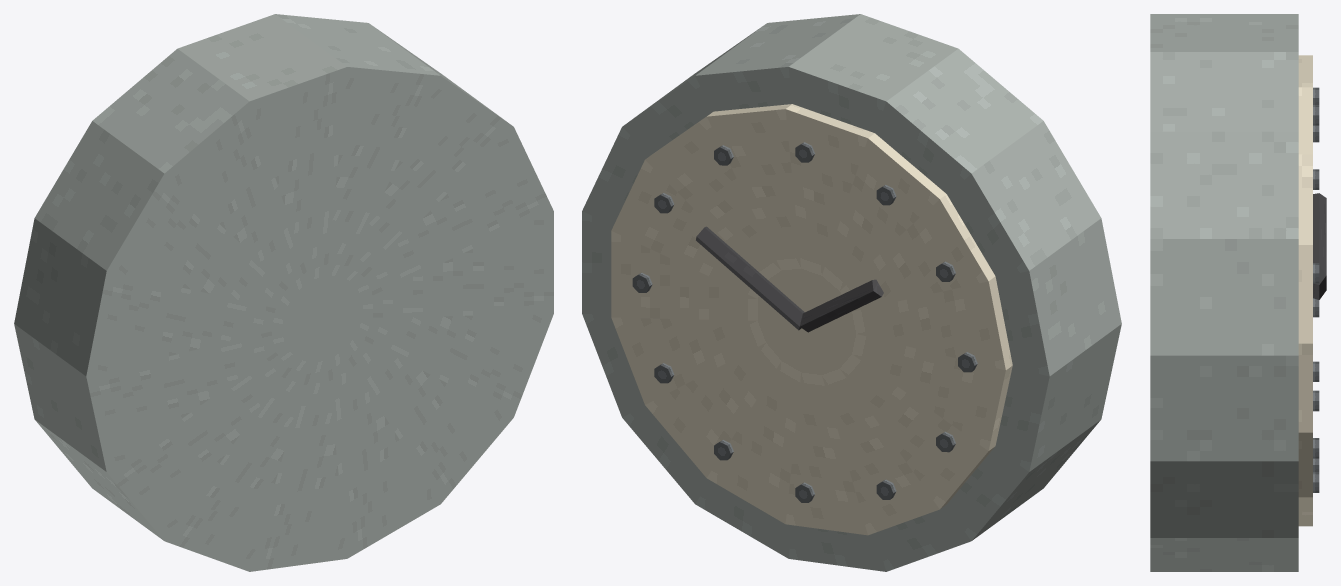
Rendered from clock.glb.
3 views of the same model, side by side, from view 1: azimuth 30°, elevation 25°; view 2: azimuth 150°, elevation 25°; view 3: azimuth 270°, elevation 25° (orthographic). The views are drawn at different scales.
Parts seen in each view (by area): view 1: block_clock case; view 2: block_clock dial, block_clock case, block_clock hands 1, block_clock hands 0; view 3: block_clock case, block_clock dial, block_clock hands 0, block_clock hands 1.
Part boxes in pixels (box(x1,y1,x2,y2)): block_clock case: box(14, 14, 553, 571); block_clock dial: box(611, 104, 1012, 535); block_clock case: box(582, 14, 1121, 571); block_clock hands 1: box(696, 226, 804, 330); block_clock hands 0: box(800, 279, 883, 332); block_clock case: box(1150, 14, 1298, 571); block_clock dial: box(1298, 55, 1312, 526); block_clock hands 0: box(1313, 193, 1326, 274); block_clock hands 1: box(1313, 265, 1326, 299).
Bounding box in the file's own units: 0.2884 × 0.29 × 0.0917.
Materials: 1 (1 with a texture image).
